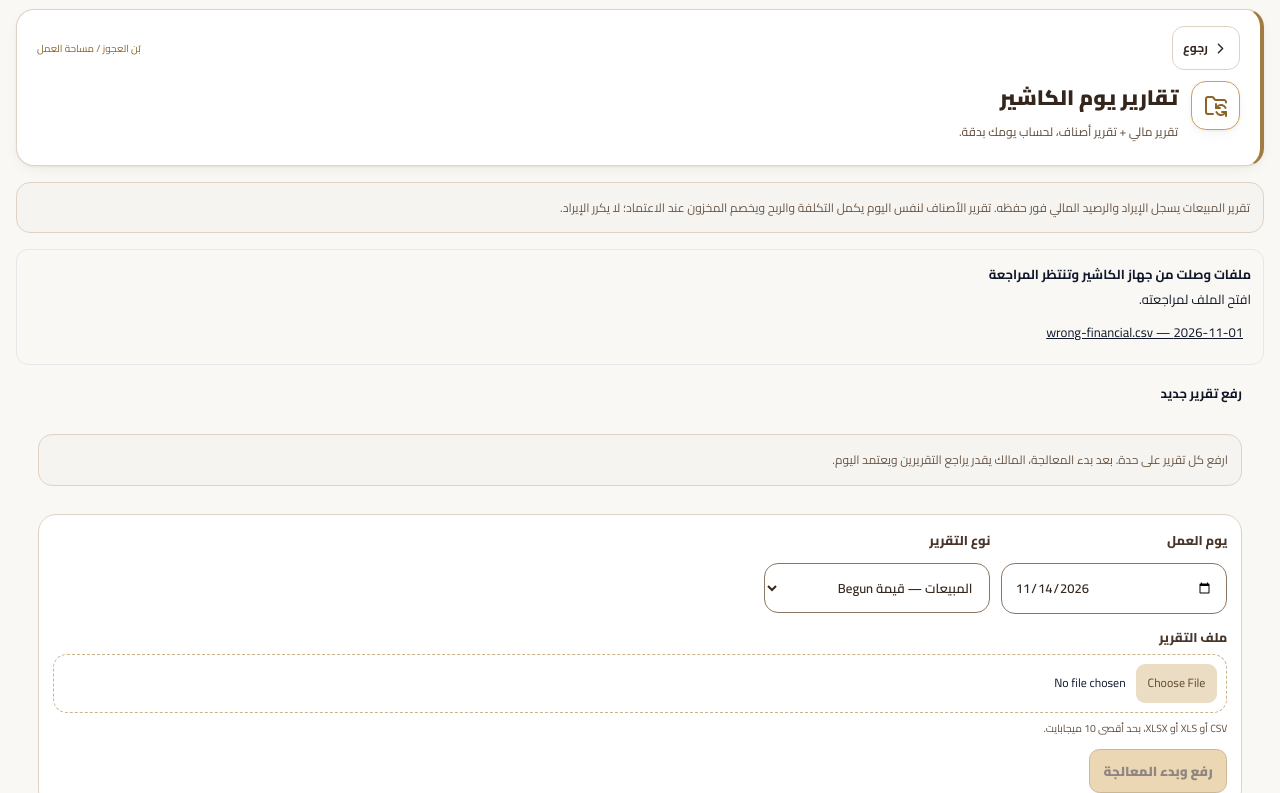
it: blocks financial files without a confirmed Begun amount and offers no alternative total selector
Click the button "2026-11-01 — wrong-financial.csv".
click(1145, 332)  # box [1038, 312, 1251, 352]
(page scrolled)
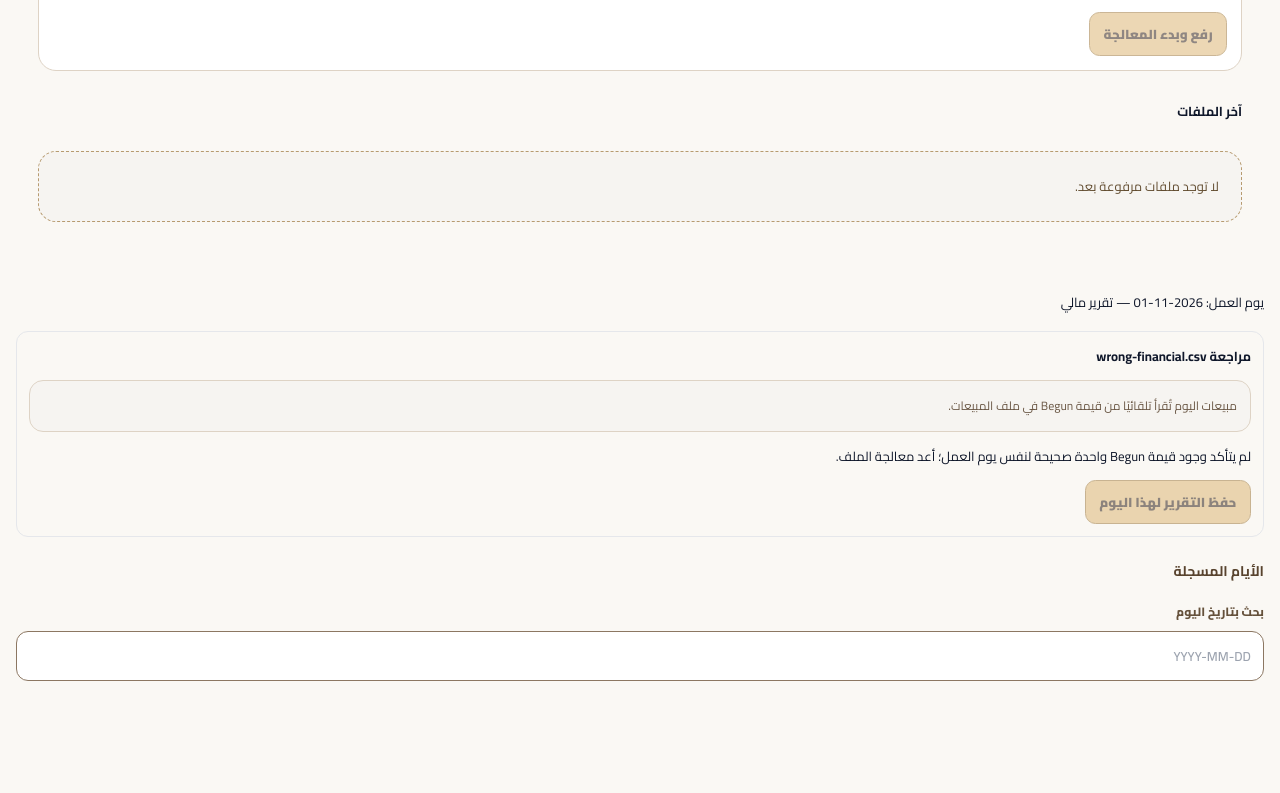
Now the heading "مراجعة wrong-financial.csv" is shown, box [1096, 344, 1251, 368]
Now the message shows "Begun", box [836, 444, 1251, 468]
Now the button "حفظ التقرير لهذا اليوم" is disabled, box [1085, 480, 1251, 524]
